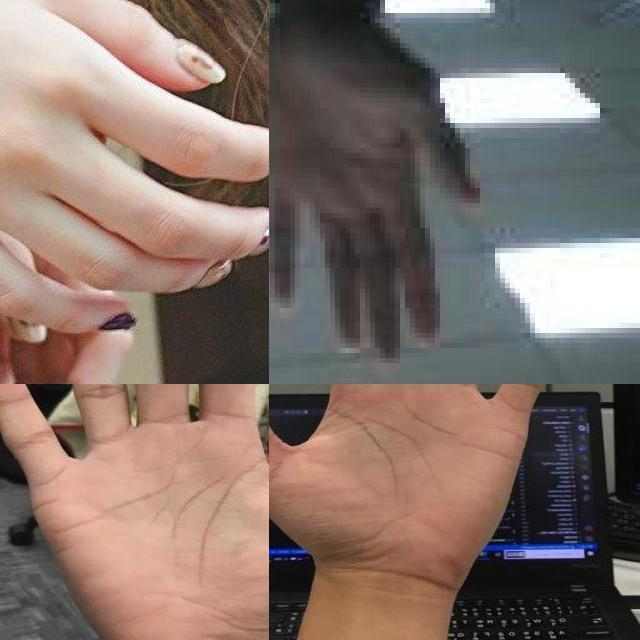hand: (0, 0, 269, 335), (269, 3, 485, 368), (0, 384, 269, 640), (269, 384, 569, 575)
